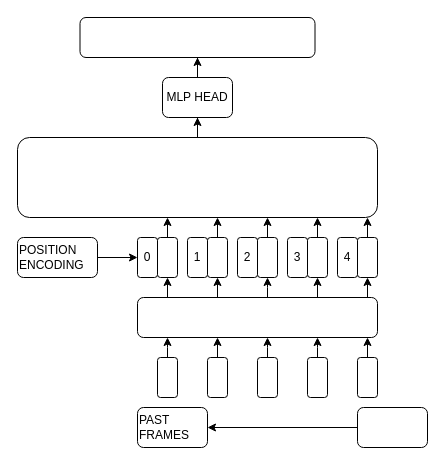
Image size: 445x465. Some labels were removed from this diagram. The shapes that lost their labels are listed below. From the top down, each one's box as (x1, y1, x2, y2) in pixels, then its label:
(79, 16, 315, 58): CLASS: ATTACK, MOUNT, INVES, OTHER
(16, 136, 378, 218): TRANSFORMER ENCODER
(136, 296, 378, 338): FLATTEN FRAME FEATURES
(356, 406, 428, 448): CURRENT FRAMES
